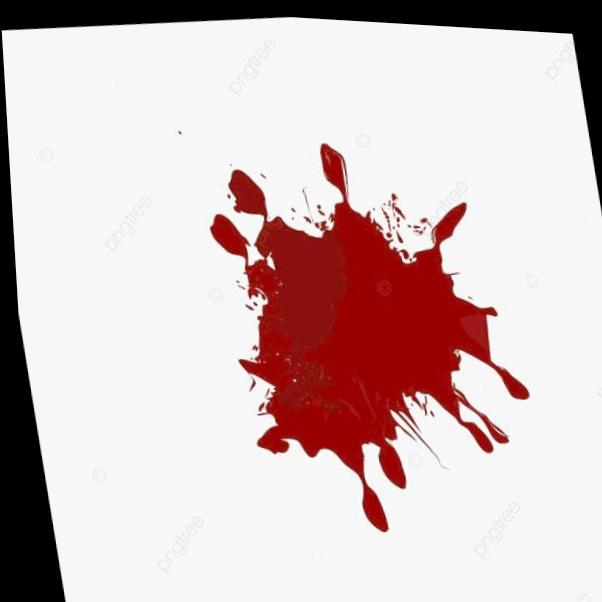Fire: (207, 138, 524, 527)
